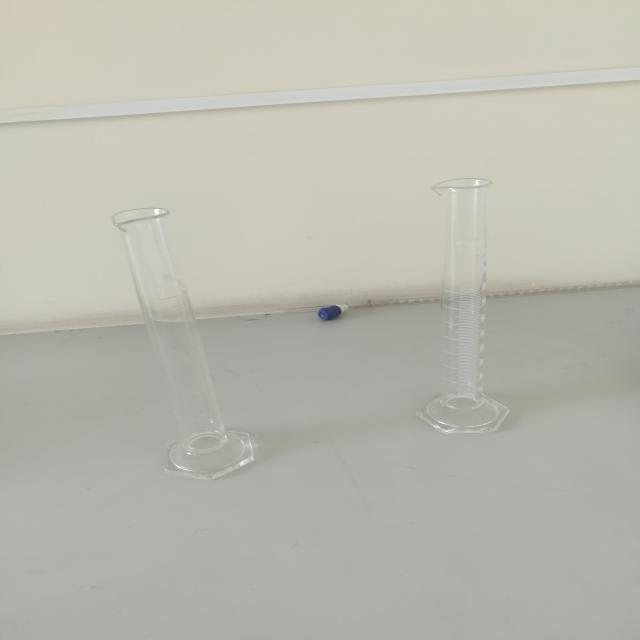Measuring_Cylinder: (82, 165, 291, 503), (370, 144, 562, 466)
